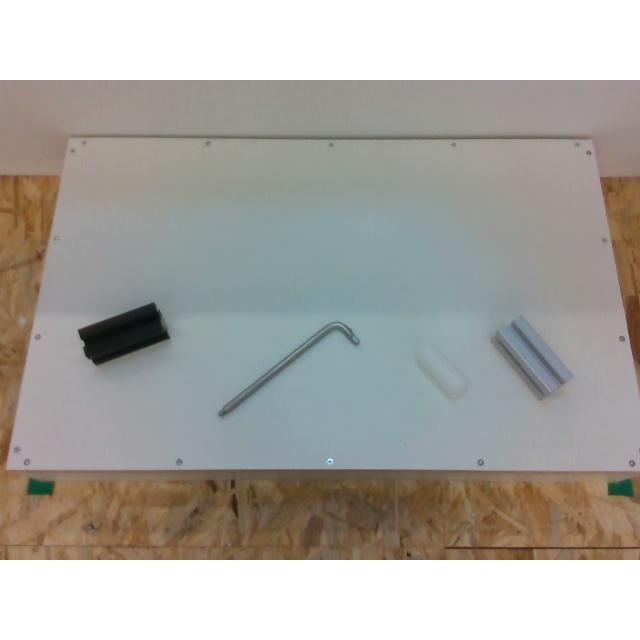AllenKey: (216, 320, 360, 416)
S40_40_B: (76, 302, 168, 362)
S40_40_G: (493, 316, 573, 396)
Spacer: (418, 344, 470, 396)
